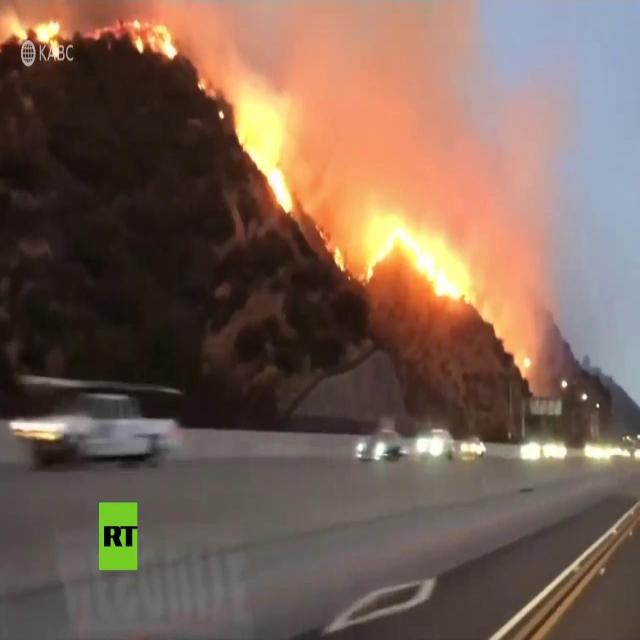Fire: (366, 214, 472, 306), (231, 86, 293, 214), (125, 15, 176, 62), (7, 17, 60, 41), (332, 243, 347, 271)
